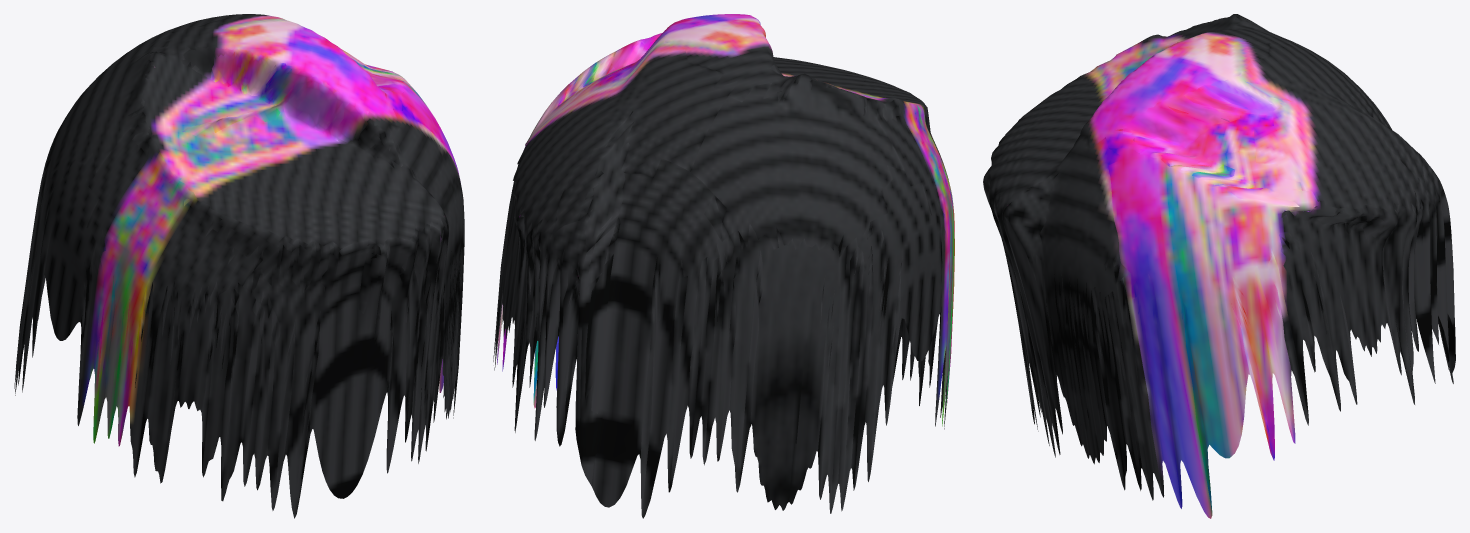
File: page1obj_v4.glb
The picture shows the model from 3 angles, left to right: view 1: azimuth 30°, elevation 25°; view 2: azimuth 150°, elevation 25°; view 3: azimuth 270°, elevation 25°; orthographic projection. The views are drawn at different scales.
Parts seen in each view (by area): view 1: Default(D63A3606-FF84-4F48-9791-4358D7CB3DE5); view 2: Default(D63A3606-FF84-4F48-9791-4358D7CB3DE5); view 3: Default(D63A3606-FF84-4F48-9791-4358D7CB3DE5).
Boxes of the visible parts, x1,y1,x2,y2 form: Default(D63A3606-FF84-4F48-9791-4358D7CB3DE5): (14, 14, 464, 518); Default(D63A3606-FF84-4F48-9791-4358D7CB3DE5): (493, 14, 954, 518); Default(D63A3606-FF84-4F48-9791-4358D7CB3DE5): (983, 14, 1455, 518).
Bounding box in the file's own units: 0.032 × 0.033 × 0.0363.
Materials: 1 (1 with a texture image).
